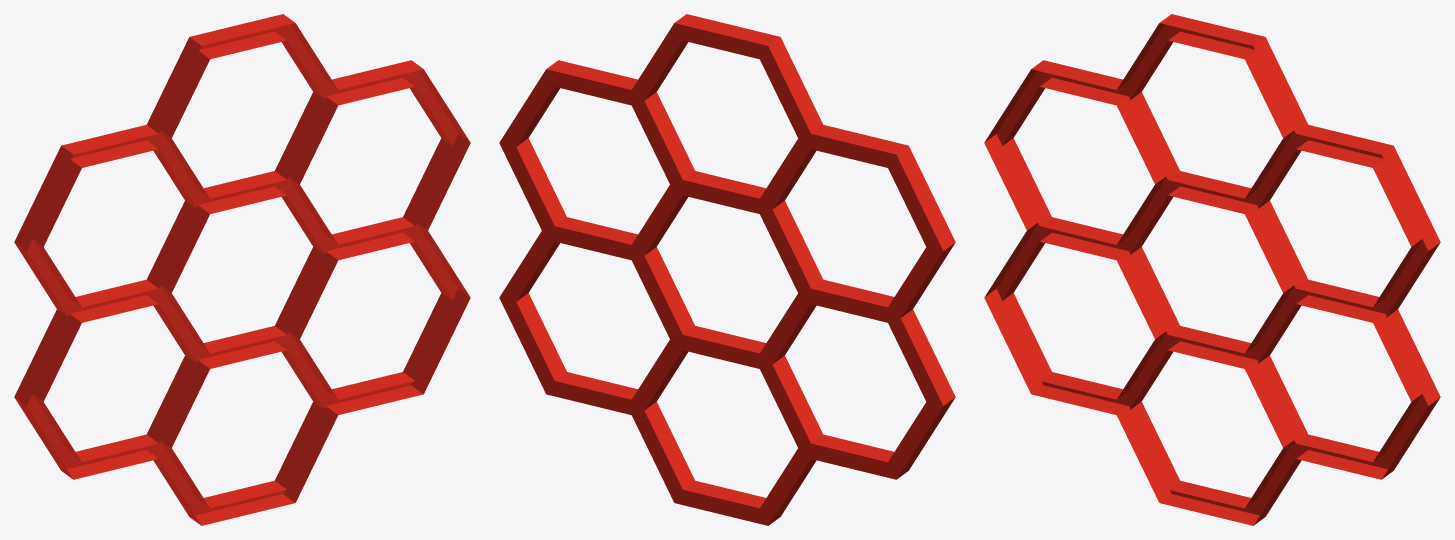
File: HoneyComb_Wireframe.fbx
The picture shows the model from 3 angles, left to right: view 1: azimuth 30°, elevation 25°; view 2: azimuth 150°, elevation 25°; view 3: azimuth 330°, elevation 25°; orthographic projection.
Visible parts, largest first — view 1: SM_HoneyComb_Wireframe; view 2: SM_HoneyComb_Wireframe; view 3: SM_HoneyComb_Wireframe.
Part boxes in pixels (x1,y1,x2,y2): SM_HoneyComb_Wireframe: (14, 14, 470, 525); SM_HoneyComb_Wireframe: (499, 14, 955, 525); SM_HoneyComb_Wireframe: (984, 14, 1440, 525).
Size of the model in its own units: 8 by 8.26 by 0.3846.
